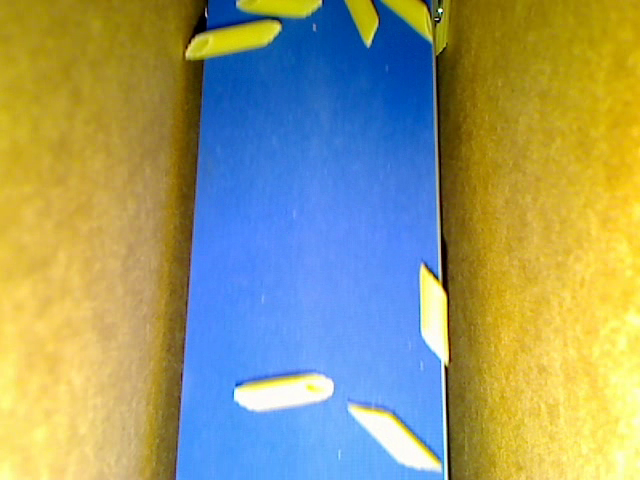penne: (344, 404, 444, 471), (227, 371, 335, 413), (412, 263, 453, 364), (185, 16, 279, 59), (380, 1, 435, 44), (343, 1, 382, 53), (234, 1, 322, 19), (434, 1, 451, 65)
